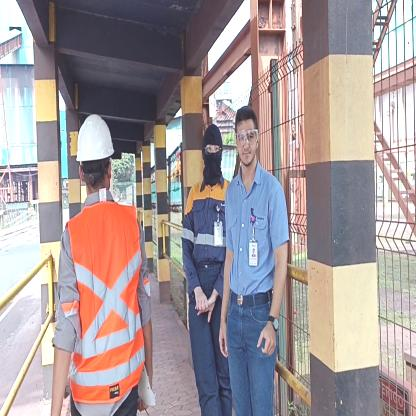Balaclava: (197, 124, 225, 183)
Capacete: (73, 106, 116, 160)
Operacional: (184, 178, 228, 264)
colete: (66, 203, 146, 394)
